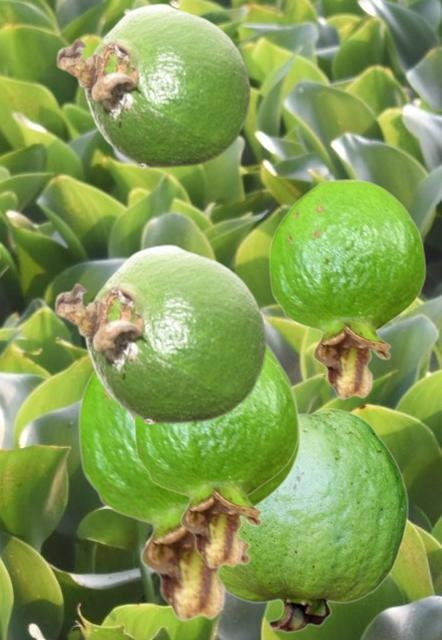guava: (77, 343, 300, 621), (220, 408, 408, 632), (53, 243, 267, 424), (133, 354, 298, 568), (268, 178, 425, 399), (55, 2, 251, 168)
